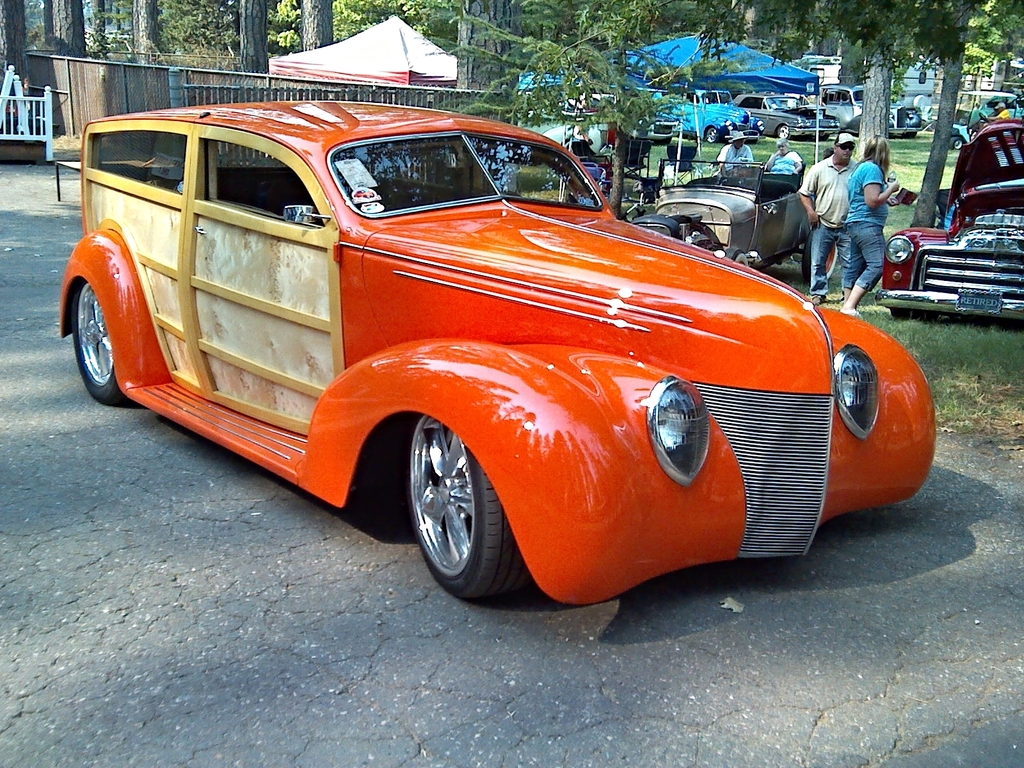Car: (54, 109, 954, 604), (874, 119, 1023, 322), (620, 156, 838, 279), (801, 81, 922, 136), (654, 87, 764, 142), (561, 94, 679, 144), (731, 90, 840, 140), (951, 89, 1023, 146)
